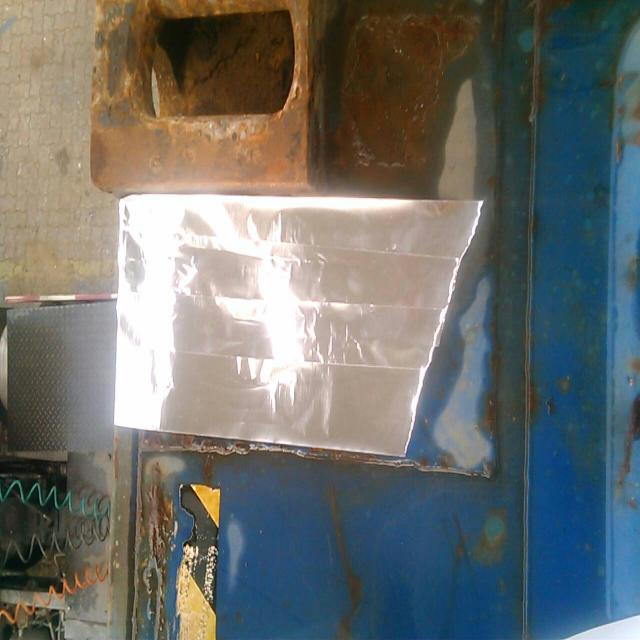rust: (89, 1, 497, 200), (138, 461, 176, 640)
